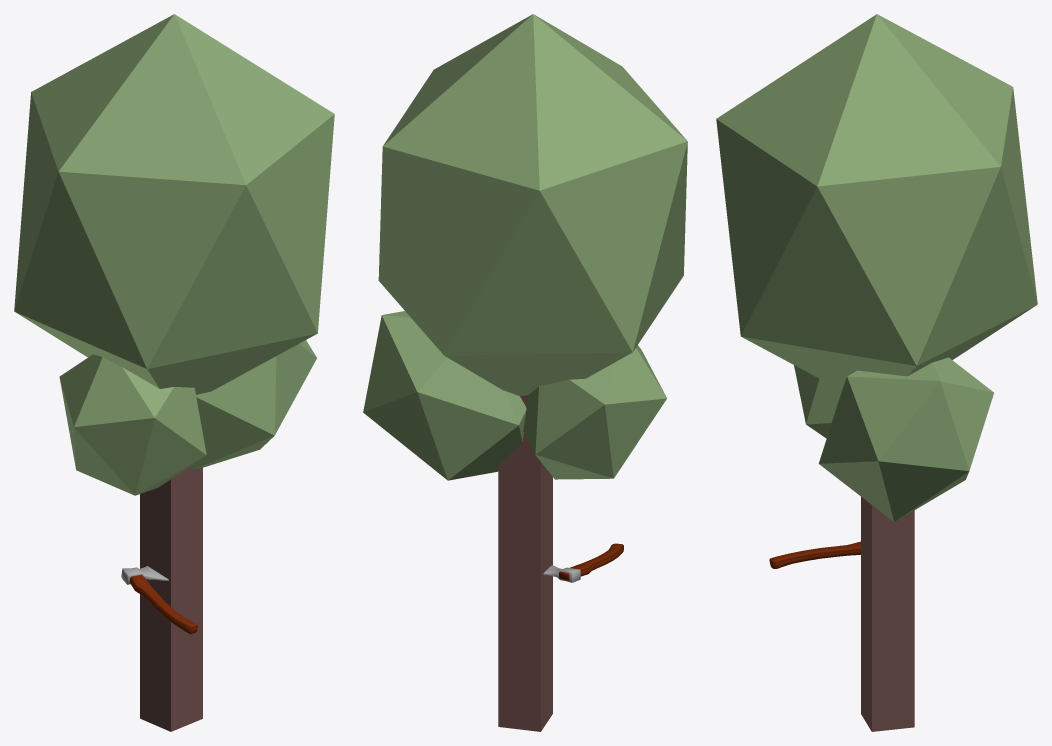
Rendered from tree_medium_axe.glb.
3 views of the same model, side by side, from view 1: azimuth 30°, elevation 25°; view 2: azimuth 150°, elevation 25°; view 3: azimuth 270°, elevation 25° (orthographic).
Parts seen in each view (by area): view 1: Object_99, Object_100, HatchetHandle_2; view 2: Object_99, Object_100, HatchetHandle_2; view 3: Object_99, Object_100, HatchetHandle_2.
Boxes of the visible parts, x1,y1,x2,y2 form: Object_99: [14, 14, 334, 495]; Object_100: [140, 466, 202, 731]; HatchetHandle_2: [121, 566, 197, 634]; Object_99: [363, 14, 687, 480]; Object_100: [498, 395, 552, 731]; HatchetHandle_2: [543, 543, 623, 582]; Object_99: [716, 14, 1037, 522]; Object_100: [861, 497, 914, 731]; HatchetHandle_2: [769, 541, 860, 568].
Bounding box in the file's own units: 2.05 × 4.96 × 2.05.
